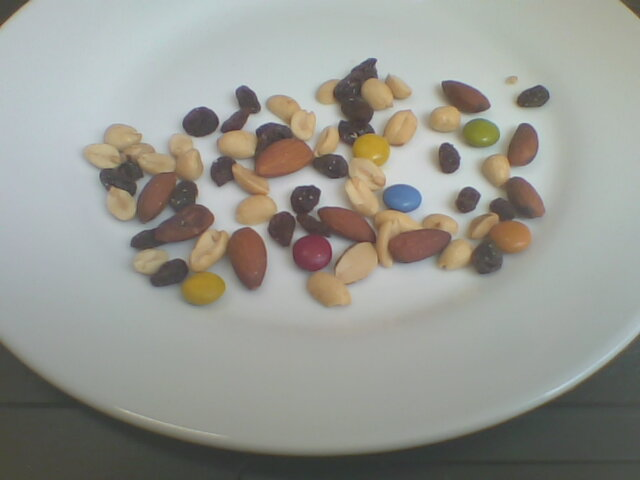almond: (151, 205, 214, 242), (229, 227, 266, 289), (318, 206, 376, 243), (388, 230, 450, 263), (137, 173, 175, 223), (441, 79, 491, 113), (505, 176, 545, 218), (510, 124, 538, 166)
mm: (181, 270, 225, 304), (490, 219, 531, 253), (293, 235, 331, 270), (384, 184, 421, 211), (464, 119, 499, 147)
peanut: (335, 242, 379, 283), (307, 270, 353, 308), (191, 228, 228, 271), (234, 195, 276, 225), (385, 109, 418, 146), (233, 163, 271, 195), (379, 210, 422, 238), (346, 178, 378, 215), (438, 239, 475, 270), (377, 218, 400, 267), (359, 76, 394, 108), (351, 158, 386, 190), (267, 95, 303, 126), (85, 143, 127, 169), (219, 131, 258, 157), (108, 187, 136, 221), (104, 123, 142, 148), (421, 213, 458, 237), (484, 154, 511, 186), (134, 249, 168, 274), (176, 150, 202, 182), (290, 110, 316, 140), (316, 126, 341, 157), (431, 107, 461, 132), (139, 154, 176, 174), (317, 78, 344, 104), (385, 73, 412, 99), (470, 213, 498, 238), (170, 133, 193, 160), (125, 143, 154, 164)
raisin: (183, 107, 219, 137), (473, 237, 501, 274), (101, 168, 137, 196), (151, 259, 187, 287), (342, 95, 374, 125), (269, 212, 295, 248), (339, 120, 376, 145), (314, 153, 349, 179), (297, 213, 331, 238), (130, 228, 168, 250), (292, 185, 321, 213), (170, 180, 197, 210), (334, 73, 360, 103), (221, 107, 249, 134), (258, 123, 293, 144), (211, 157, 236, 186), (236, 85, 261, 113), (517, 85, 548, 107), (439, 142, 461, 173), (489, 197, 515, 221), (350, 58, 378, 80), (458, 187, 480, 212), (117, 161, 143, 179)
